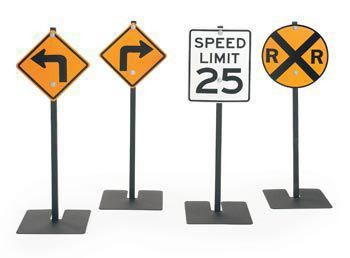left: (14, 26, 90, 102)
right: (96, 22, 168, 89)
